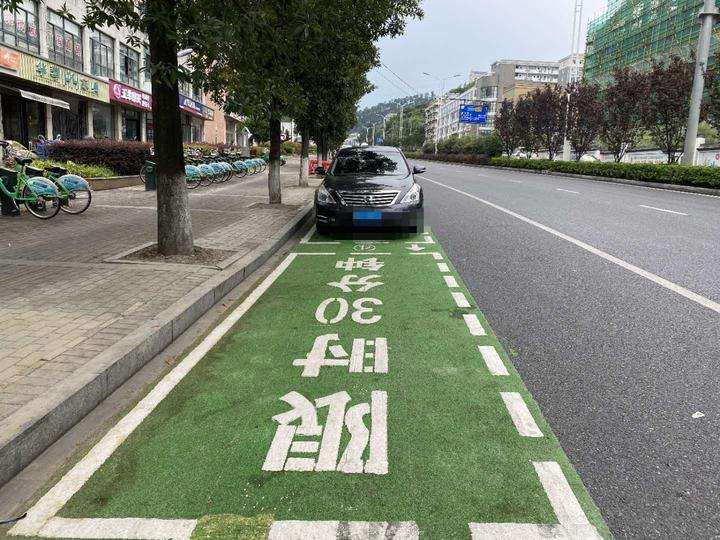slot_nocar: (32, 245, 608, 540)
